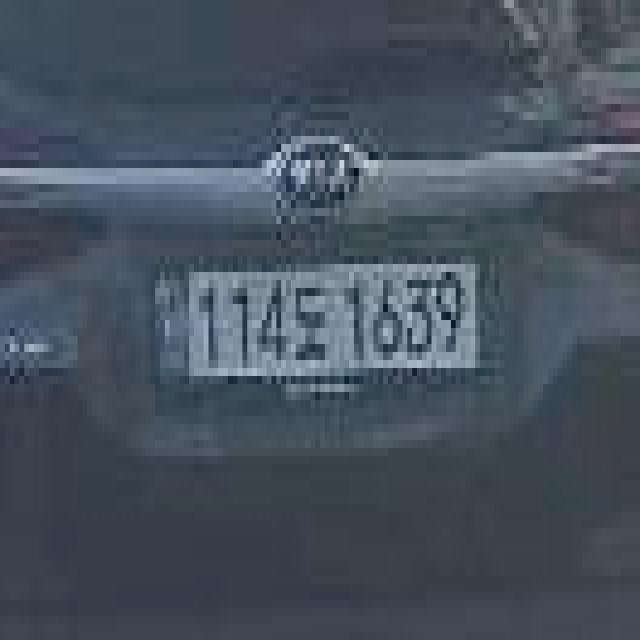illegal_plate: (153, 256, 481, 404)
